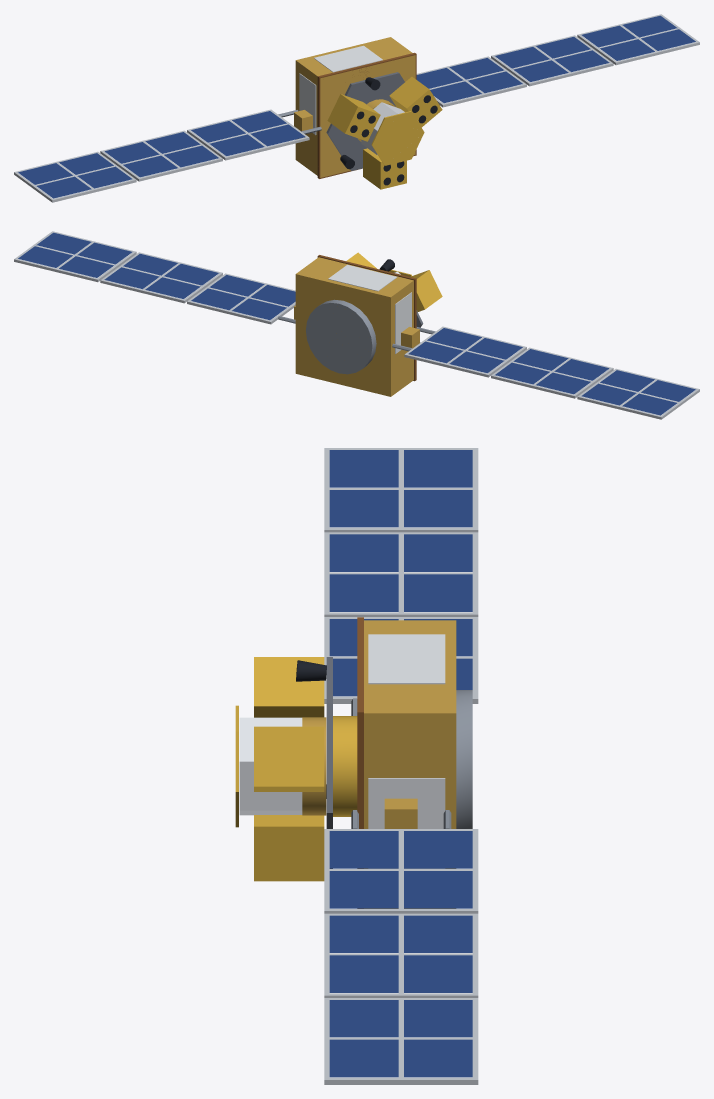
Rendered from resourcesat-2.glb.
The picture shows the model from 3 angles, top to bottom: view 1: azimuth 30°, elevation 25°; view 2: azimuth 150°, elevation 25°; view 3: azimuth 270°, elevation 25°; orthographic projection. The views are drawn at different scales.
Visible parts, largest first — view 1: solar-panel, body, foil; view 2: solar-panel, body, foil; view 3: solar-panel, body, foil.
Boxes of the visible parts, x1,y1,x2,y2 form: solar-panel: (18, 15, 695, 198); body: (14, 14, 699, 202); foil: (294, 37, 442, 189); solar-panel: (18, 232, 695, 415); body: (14, 231, 699, 419); foil: (294, 252, 442, 396); solar-panel: (329, 450, 472, 1077); body: (235, 448, 478, 1084); foil: (254, 617, 456, 908).
Size of the model in its own units: 13.6 by 2.04 by 2.2.
